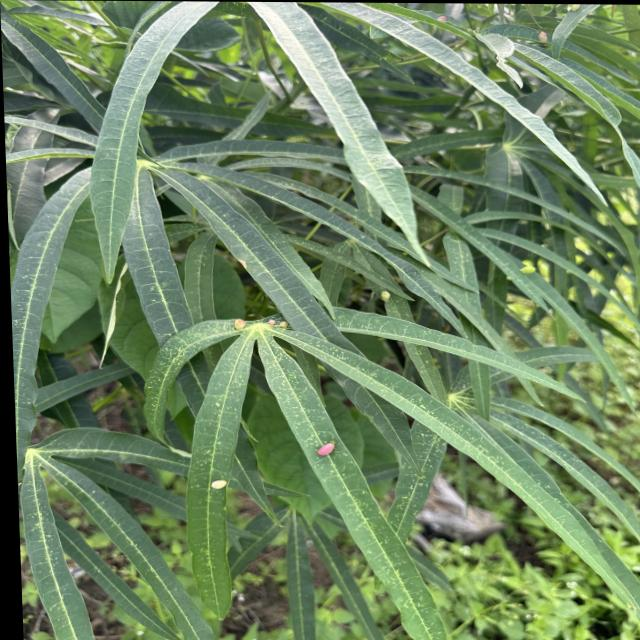Mosca: (310, 435, 347, 466), (209, 472, 236, 498), (373, 283, 397, 312), (263, 313, 292, 335), (231, 313, 247, 332)
